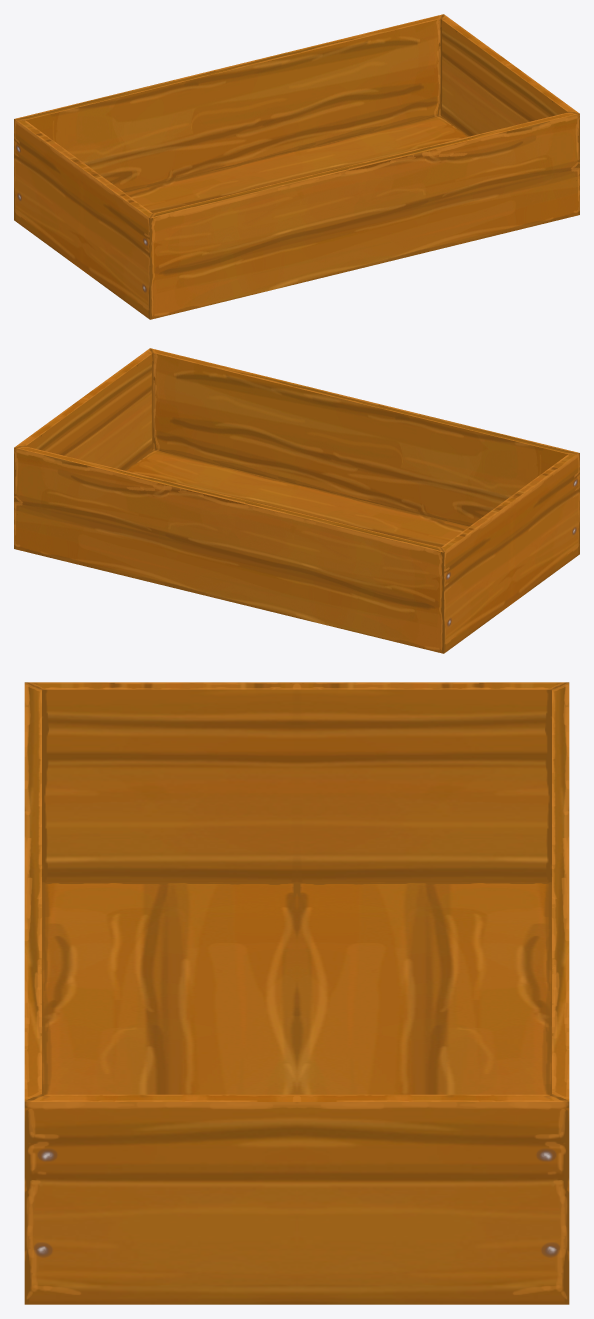
The model's file is box_rectangular3.gltf.
The picture shows the model from 3 angles, top to bottom: view 1: azimuth 30°, elevation 25°; view 2: azimuth 150°, elevation 25°; view 3: azimuth 270°, elevation 25°; orthographic projection. The views are drawn at different scales.
Parts seen in each view (by area): view 1: fruis_and_vegetables.015; view 2: fruis_and_vegetables.015; view 3: fruis_and_vegetables.015.
Boxes of the visible parts, x1,y1,x2,y2 form: fruis_and_vegetables.015: [14, 14, 579, 319]; fruis_and_vegetables.015: [14, 348, 579, 653]; fruis_and_vegetables.015: [24, 682, 569, 1304].
Size of the model in its own units: 1.22 by 0.275 by 0.6697.
1 material, 1 textured.
